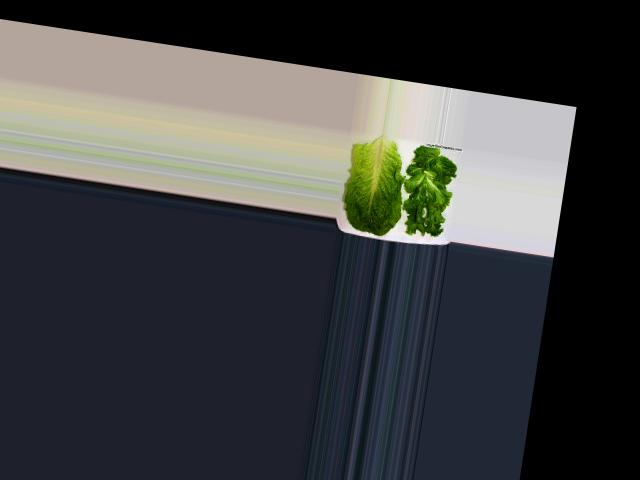lettuce: (399, 147, 464, 241)
